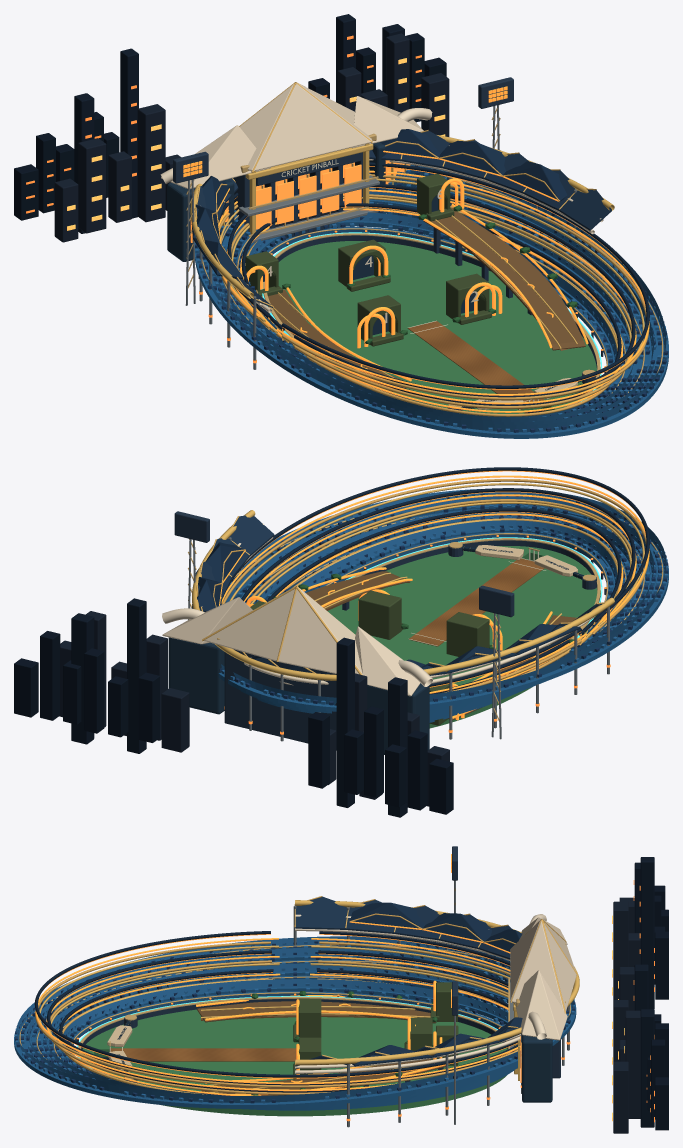
File: cricket-stadium-colosseum-r11.glb
3 renders of one model, top to bottom at view 1: azimuth 30°, elevation 25°; view 2: azimuth 150°, elevation 25°; view 3: azimuth 270°, elevation 25°, orthographic. The views are drawn at different scales.
Visible parts, largest first — view 1: Arena_Field_Substrate, R9_Six_Lane, R9_Pavilion_Tensile_0, Seating_Terrace_09, Individual_Seats_0, Individual_Seats_1, Crowd_Band_09, Crowd_Band_07, Crowd_Band_04, R11_Tier_Upper_2, R9_City_3, Measured_Pitch (+59 smaller); view 2: Arena_Field_Substrate, Pavilion_Shell, Crowd_Band_09, Individual_Seats_1, Individual_Seats_0, R7_Pavilion_Wing_Mass_1, Crowd_Band_01, R9_Pavilion_Tensile_3, R9_Pavilion_Tensile_2, Seating_Terrace_09, R11_Tier_Upper_2, R7_Upper_Fascia_2 (+60 smaller); view 3: Arena_Field_Substrate, Crowd_Band_09, Seating_Terrace_09, Crowd_Band_01, R11_Tier_Upper_2, Individual_Seats_0, Individual_Seats_1, Crowd_Band_07, Crowd_Band_04, R11_Tier_Lower_2, R11_Tier_Upper_1, Measured_Pitch (+58 smaller).
Boxes of the visible parts, x1=… form: Arena_Field_Substrate: x1=278, y1=241, x2=600, y2=413; R9_Six_Lane: x1=423, y1=208, x2=585, y2=350; R9_Pavilion_Tensile_0: x1=254, y1=83, x2=371, y2=171; Seating_Terrace_09: x1=194, y1=170, x2=668, y2=438; Individual_Seats_0: x1=195, y1=167, x2=667, y2=432; Individual_Seats_1: x1=195, y1=165, x2=668, y2=432; Crowd_Band_09: x1=197, y1=164, x2=666, y2=432; Crowd_Band_07: x1=214, y1=169, x2=653, y2=424; Crowd_Band_04: x1=232, y1=191, x2=635, y2=422; R11_Tier_Upper_2: x1=219, y1=162, x2=649, y2=388; R9_City_3: x1=137, y1=104, x2=165, y2=222; Measured_Pitch: x1=407, y1=321, x2=544, y2=409; Arena_Field_Substrate: x1=327, y1=546, x2=600, y2=728; Pavilion_Shell: x1=224, y1=649, x2=336, y2=750; Crowd_Band_09: x1=221, y1=488, x2=666, y2=704; Individual_Seats_1: x1=219, y1=493, x2=668, y2=705; Individual_Seats_0: x1=221, y1=493, x2=668, y2=704; R7_Pavilion_Wing_Mass_1: x1=168, y1=637, x2=224, y2=714; Crowd_Band_01: x1=298, y1=520, x2=617, y2=658; R9_Pavilion_Tensile_3: x1=278, y1=589, x2=358, y2=674; R9_Pavilion_Tensile_2: x1=204, y1=589, x2=294, y2=661; Seating_Terrace_09: x1=218, y1=522, x2=668, y2=711; R11_Tier_Upper_2: x1=229, y1=467, x2=649, y2=686; R7_Upper_Fascia_2: x1=192, y1=510, x2=614, y2=680; Arena_Field_Substrate: x1=82, y1=1009, x2=507, y2=1116; Crowd_Band_09: x1=16, y1=936, x2=573, y2=1102; Seating_Terrace_09: x1=14, y1=945, x2=576, y2=1108; Crowd_Band_01: x1=63, y1=979, x2=508, y2=1095; R11_Tier_Upper_2: x1=34, y1=931, x2=520, y2=1077; Individual_Seats_0: x1=15, y1=941, x2=575, y2=1103; Individual_Seats_1: x1=15, y1=941, x2=575, y2=1103; Crowd_Band_07: x1=28, y1=947, x2=510, y2=1095; Crowd_Band_04: x1=45, y1=963, x2=508, y2=1095; R11_Tier_Lower_2: x1=35, y1=941, x2=520, y2=1087; R11_Tier_Upper_1: x1=47, y1=950, x2=520, y2=1085; Measured_Pitch: x1=110, y1=1048, x2=296, y2=1061.
Bounding box in the file's own units: 13.13 × 5.09 × 19.12.
Materials: 37 (1 with a texture image).
